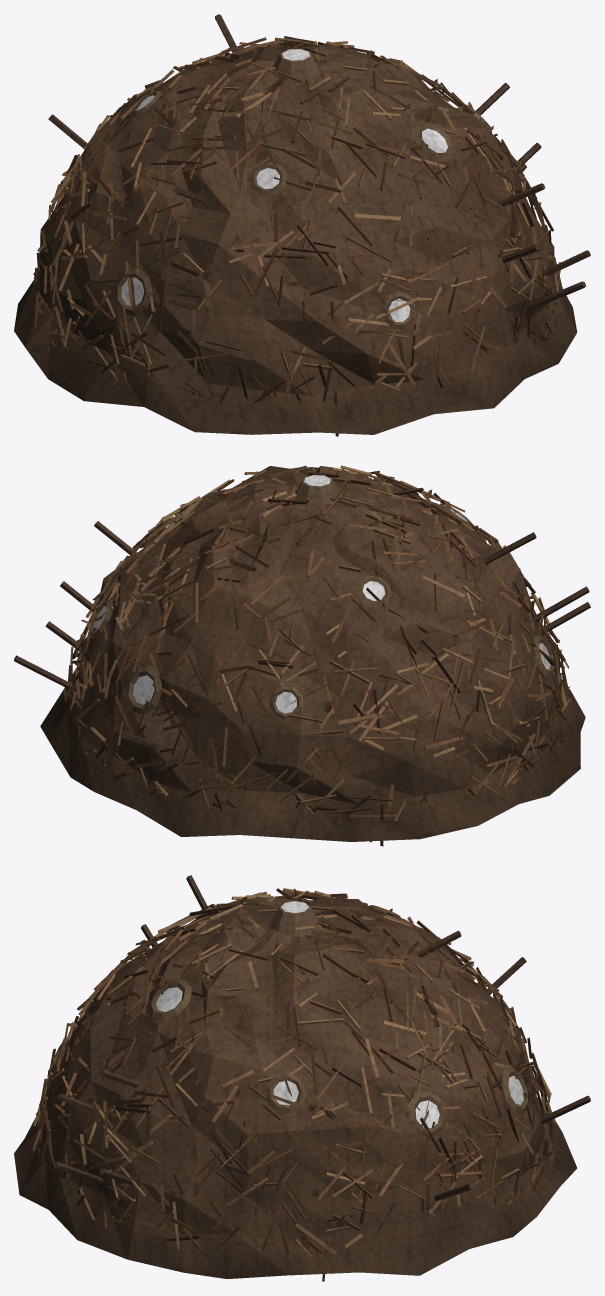
Rendered from gang_colonie_2.glb.
3 renders of one model, top to bottom at view 1: azimuth 30°, elevation 25°; view 2: azimuth 150°, elevation 25°; view 3: azimuth 270°, elevation 25°, orthographic. The views are drawn at different scales.
Visible parts, largest first — view 1: habitat_colonie; view 2: habitat_colonie; view 3: habitat_colonie.
Part boxes in pixels (x1,y1,x2,y2): habitat_colonie: (14, 14, 590, 436); habitat_colonie: (14, 465, 590, 846); habitat_colonie: (14, 875, 590, 1281).
Bounding box in the file's own units: 55.78 × 29.04 × 56.53.
Materials: 7 (7 with a texture image).
